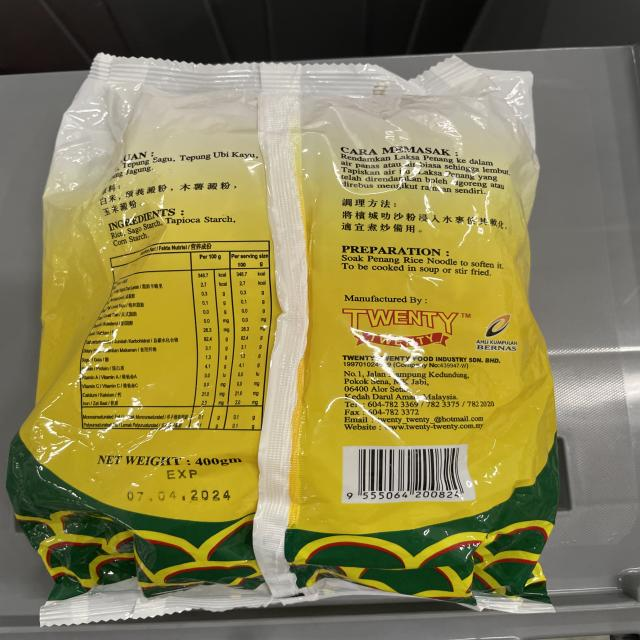object_name: (53, 68, 551, 587)
